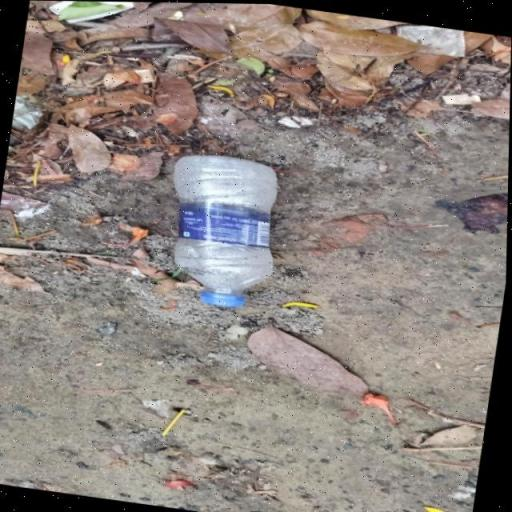plastic: (155, 148, 289, 312)
